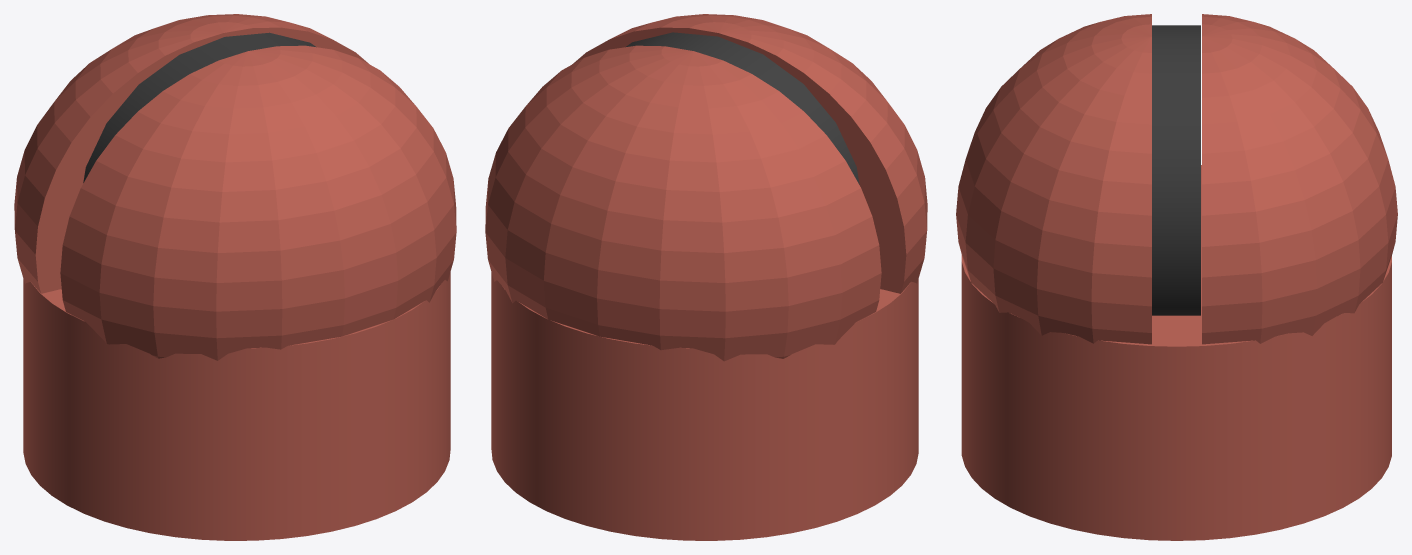
The model's file is Lever 1.fbx.
3 renders of one model, left to right at view 1: azimuth 30°, elevation 25°; view 2: azimuth 150°, elevation 25°; view 3: azimuth 270°, elevation 25°, orthographic.
Parts seen in each view (by area): view 1: polySurface160, polySurface161, polySurface163, polySurface162; view 2: polySurface163, polySurface161, polySurface160, polySurface162; view 3: polySurface161, polySurface163, polySurface160, polySurface162.
Boxes of the visible parts, left/top/right/bottom form: polySurface160: left=60, top=45, right=456, bottom=360; polySurface161: left=23, top=272, right=450, bottom=540; polySurface163: left=14, top=14, right=369, bottom=293; polySurface162: left=83, top=32, right=316, bottom=182; polySurface163: left=485, top=45, right=881, bottom=361; polySurface161: left=491, top=272, right=918, bottom=540; polySurface160: left=572, top=14, right=927, bottom=293; polySurface162: left=625, top=32, right=859, bottom=184; polySurface161: left=961, top=165, right=1391, bottom=540; polySurface163: left=1202, top=14, right=1397, bottom=344; polySurface160: left=956, top=14, right=1151, bottom=344; polySurface162: left=1152, top=25, right=1200, bottom=315.
Size of the model in its own units: 2.03 by 2.11 by 2.05.
